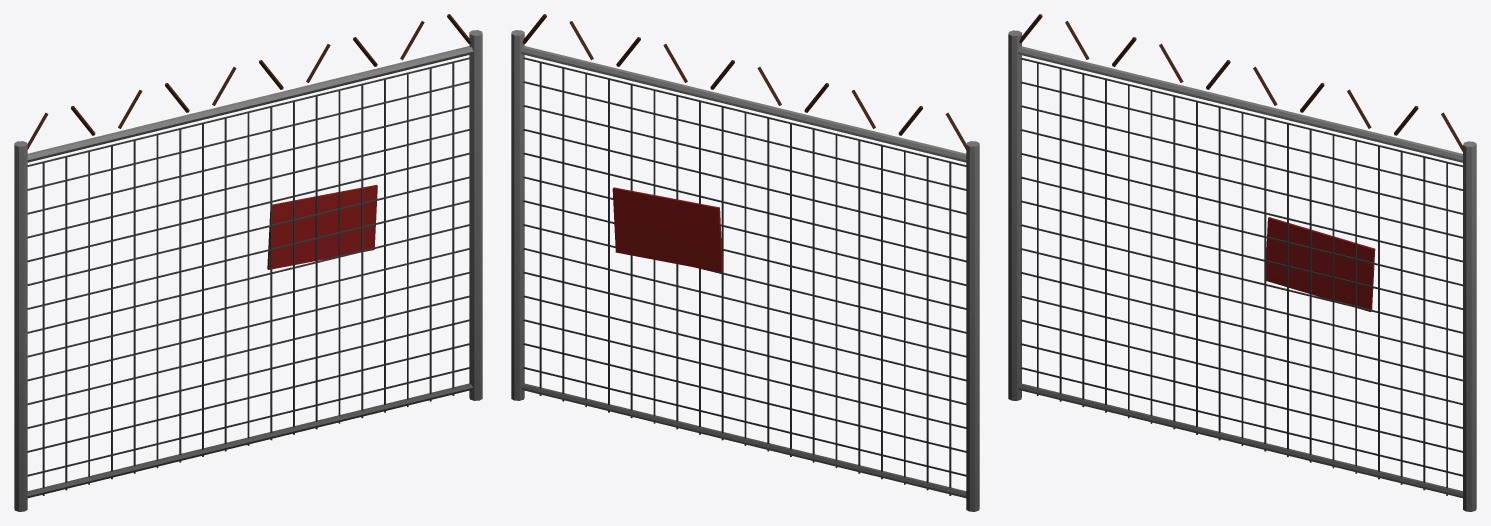
The model's file is fence_chainlink.glb.
3 renders of one model, left to right at view 1: azimuth 30°, elevation 25°; view 2: azimuth 150°, elevation 25°; view 3: azimuth 330°, elevation 25°, orthographic.
Visible parts, largest first — view 1: fence_chainlink; view 2: fence_chainlink; view 3: fence_chainlink.
Boxes of the visible parts, bbox=[...] form: fence_chainlink: bbox=[14, 14, 482, 511]; fence_chainlink: bbox=[511, 14, 979, 511]; fence_chainlink: bbox=[1008, 14, 1476, 511].
Bounding box in the file's own units: 3.08 × 2.46 × 0.08.
